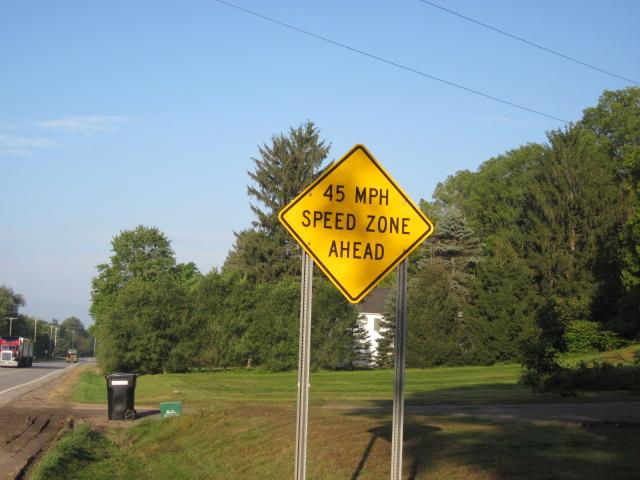warning: (278, 142, 439, 307)
